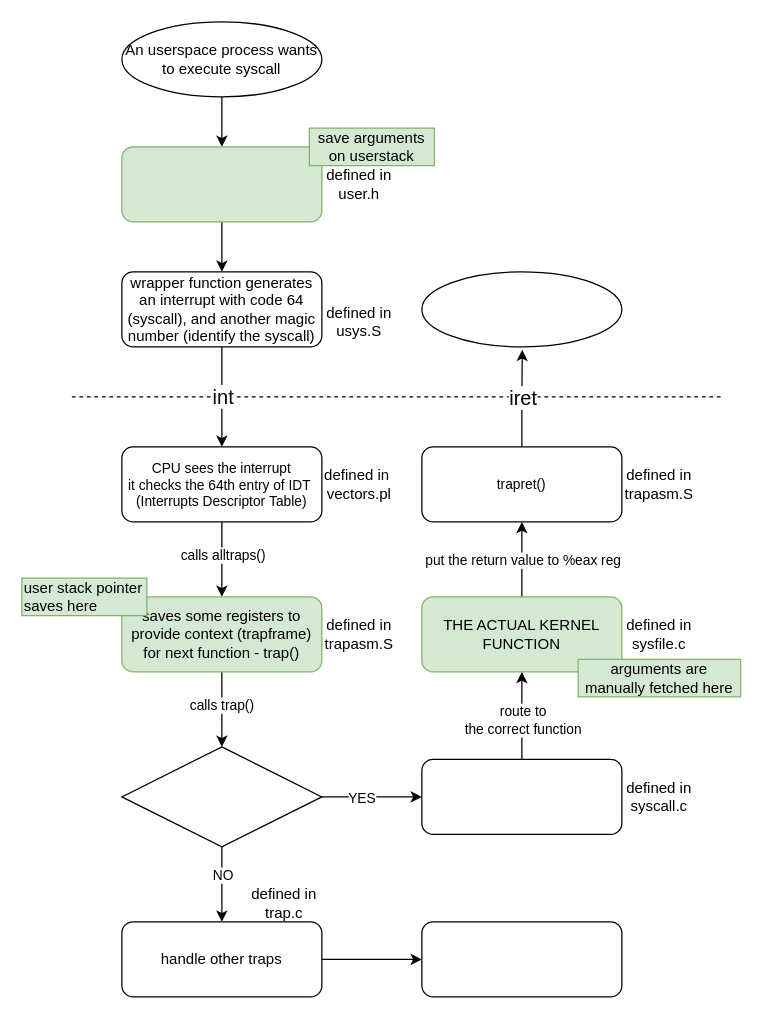
Image size: 763x1019. Some labels were removed from this diagram. Each missing label, with the box of its shape:
calls a wrapper function (userspace version of that syscall): (121, 146, 322, 222)
Somewhere I dont know: (421, 921, 622, 997)
SYSCALL ?: (121, 746, 322, 847)
syscall(): (421, 758, 622, 834)
Userspace code: (421, 271, 622, 347)
